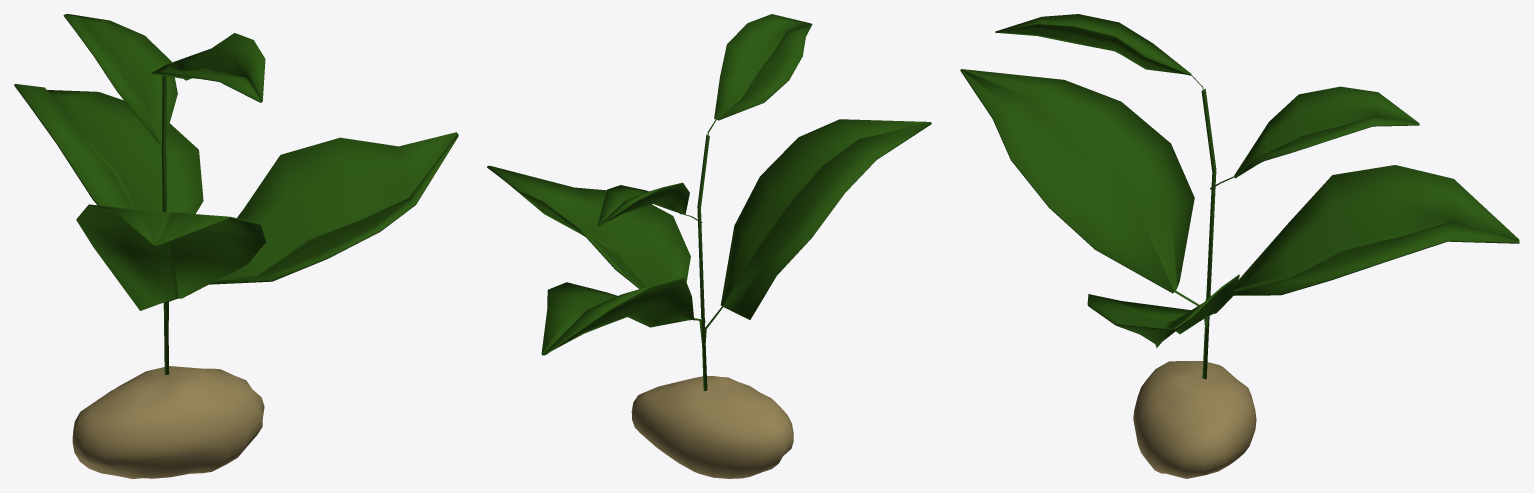
Rendered from BatataVerde.fbx.
3 views of the same model, side by side, from view 1: azimuth 30°, elevation 25°; view 2: azimuth 150°, elevation 25°; view 3: azimuth 270°, elevation 25° (orthographic). The views are drawn at different scales.
Visible parts, largest first — view 1: BatataVerde; view 2: BatataVerde; view 3: BatataVerde.
Boxes of the visible parts, box(x1,y1,x2,y2) form: BatataVerde: box(14, 14, 458, 478); BatataVerde: box(487, 14, 931, 478); BatataVerde: box(960, 14, 1519, 478).
Size of the model in its own units: 21.68 by 23.67 by 26.64.
